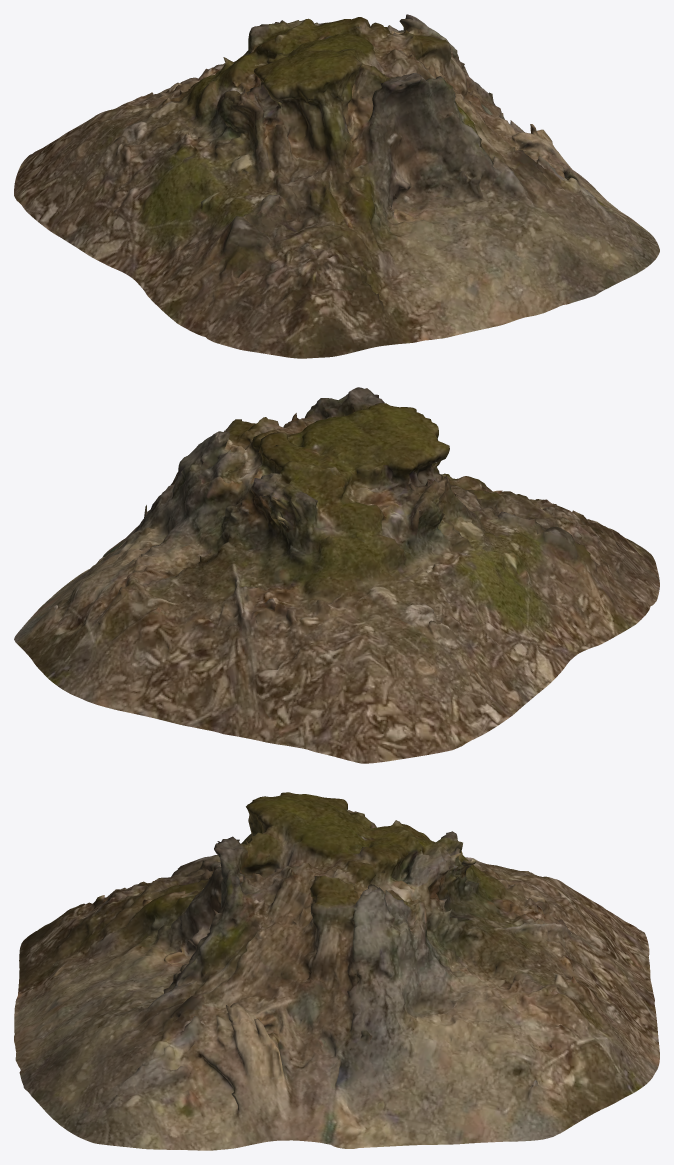
Rendered from tree_stump_01.glb.
3 views of the same model, one above another, from view 1: azimuth 30°, elevation 25°; view 2: azimuth 150°, elevation 25°; view 3: azimuth 270°, elevation 25° (orthographic). The views are drawn at different scales.
Visible parts, largest first — view 1: tree_stump_01; view 2: tree_stump_01; view 3: tree_stump_01.
Part boxes in pixels (x1,y1,x2,y2): tree_stump_01: [14, 14, 659, 358]; tree_stump_01: [14, 387, 659, 763]; tree_stump_01: [14, 792, 659, 1150].
Bounding box in the file's own units: 1.43 × 0.5728 × 1.59.
1 material, 1 textured.
